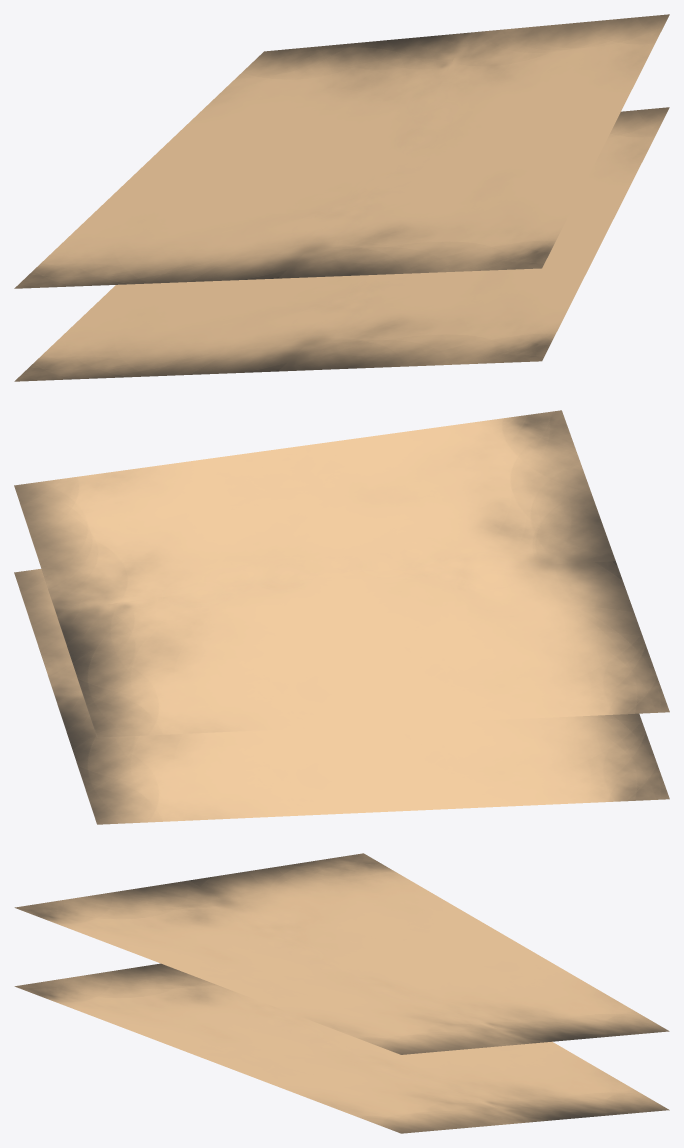
File: CourseSummer_CurveFloor_6_2.fbx
3 views of the same model, one above another, from view 1: azimuth 30°, elevation 25°; view 2: azimuth 150°, elevation 25°; view 3: azimuth 270°, elevation 25° (orthographic). The views are drawn at different scales.
Visible parts, largest first — view 1: polySurface208, polySurface216; view 2: polySurface208, polySurface216; view 3: polySurface208, polySurface216.
Part boxes in pixels (x1,y1,x2,y2): polySurface208: (14, 14, 669, 288); polySurface216: (14, 107, 669, 381); polySurface208: (14, 410, 669, 737); polySurface216: (14, 569, 669, 824); polySurface208: (14, 853, 669, 1054); polySurface216: (14, 963, 669, 1133).
Bounding box in the file's own units: 7.64 × 2 × 7.55.
1 material, 1 textured.
